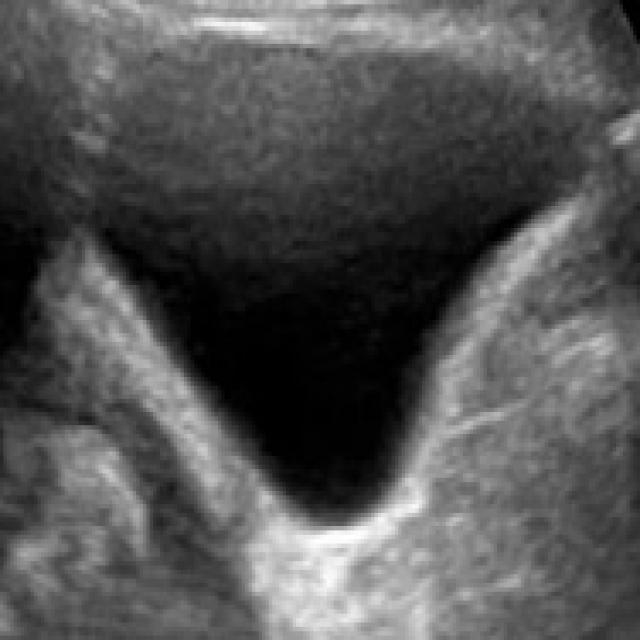bladder: (51, 16, 616, 591)
